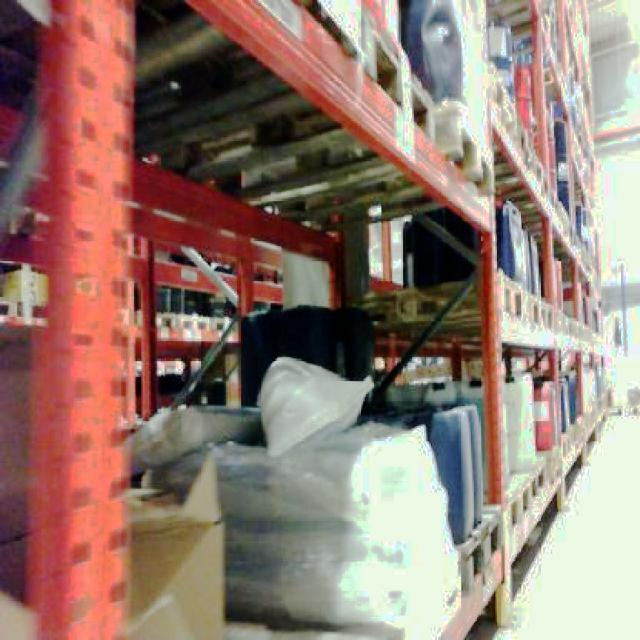pallet: (482, 0, 611, 628)
